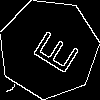E: (23, 23, 81, 76)
